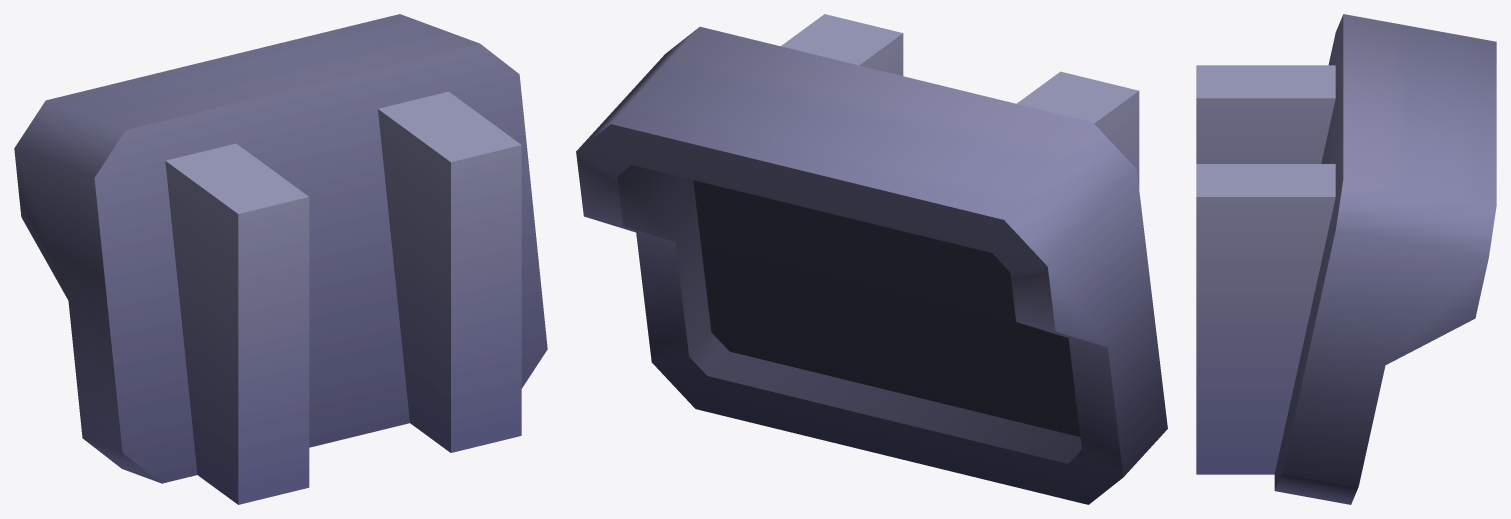
Rendered from screen-hanging-wide.glb.
3 renders of one model, left to right at view 1: azimuth 30°, elevation 25°; view 2: azimuth 150°, elevation 25°; view 3: azimuth 270°, elevation 25°, orthographic. The views are drawn at different scales.
Parts seen in each view (by area): view 1: screen-hanging-wide; view 2: screen-hanging-wide; view 3: screen-hanging-wide.
Part boxes in pixels (x1,y1,x2,y2): screen-hanging-wide: [14, 14, 547, 504]; screen-hanging-wide: [576, 14, 1167, 504]; screen-hanging-wide: [1196, 14, 1496, 504].
Size of the model in its own units: 0.9 by 0.6914 by 0.5765.
1 material, 1 textured.
